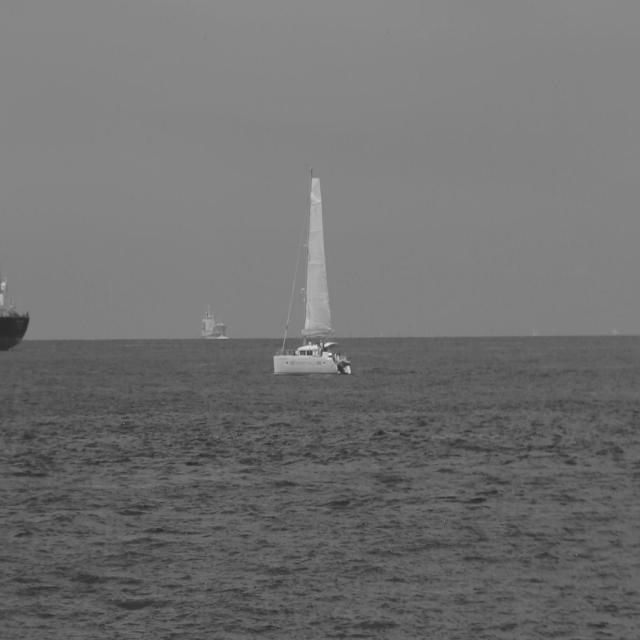ship: (274, 166, 354, 378), (0, 238, 33, 361), (202, 306, 230, 341)
